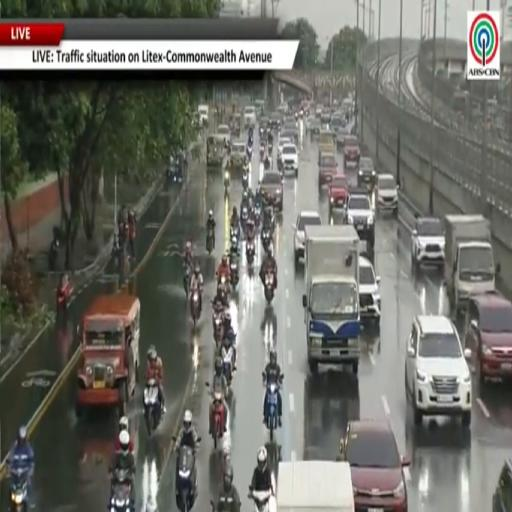car: (405, 315, 471, 427), (338, 420, 410, 511), (465, 294, 511, 385), (344, 188, 374, 250), (411, 218, 445, 268), (359, 256, 380, 328), (294, 212, 321, 264), (492, 458, 511, 511), (375, 173, 398, 215), (260, 171, 284, 211), (329, 172, 348, 215), (319, 152, 337, 188), (280, 143, 298, 177), (344, 136, 360, 168), (358, 157, 375, 187), (230, 140, 246, 169), (336, 126, 350, 151), (216, 124, 231, 146), (242, 106, 256, 129), (281, 126, 298, 143), (330, 112, 344, 131), (278, 137, 292, 155), (269, 112, 281, 132), (198, 105, 208, 126), (321, 109, 331, 124), (315, 104, 323, 118)
jeepney: (76, 294, 140, 417), (78, 424, 117, 481), (207, 134, 224, 167), (230, 140, 246, 170), (230, 114, 242, 137)
motorcycle: (176, 445, 197, 511), (265, 376, 283, 441), (144, 379, 163, 436), (109, 469, 134, 511), (209, 391, 226, 449), (10, 468, 28, 511), (109, 483, 132, 511), (56, 285, 71, 318), (221, 345, 233, 386), (249, 490, 272, 511), (264, 272, 275, 305), (48, 238, 59, 271), (190, 290, 200, 326), (213, 312, 223, 347), (183, 264, 192, 296), (230, 255, 239, 287), (218, 276, 229, 302), (261, 229, 272, 252), (246, 240, 255, 265), (206, 229, 214, 254), (230, 224, 240, 244), (254, 204, 261, 228), (241, 206, 248, 230), (224, 171, 230, 198), (230, 236, 239, 253), (263, 154, 271, 170), (246, 144, 253, 161), (242, 171, 248, 189), (259, 147, 264, 161), (268, 141, 273, 154), (259, 126, 264, 138)
truck: (303, 226, 360, 374), (444, 215, 500, 315), (277, 461, 354, 511)
